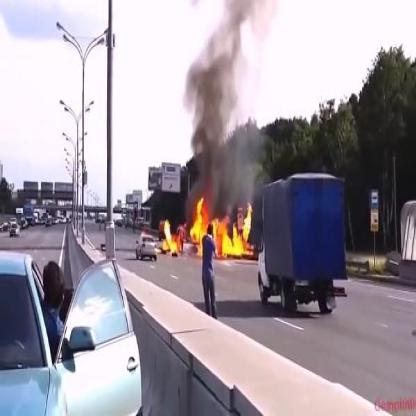fire: (188, 191, 255, 261), (159, 216, 179, 258)
